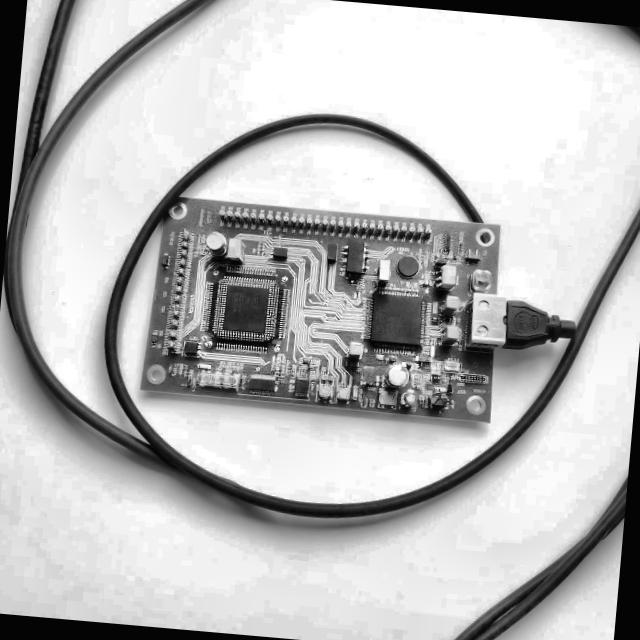Cable: (0, 0, 640, 640)
PCB: (142, 193, 504, 420)
